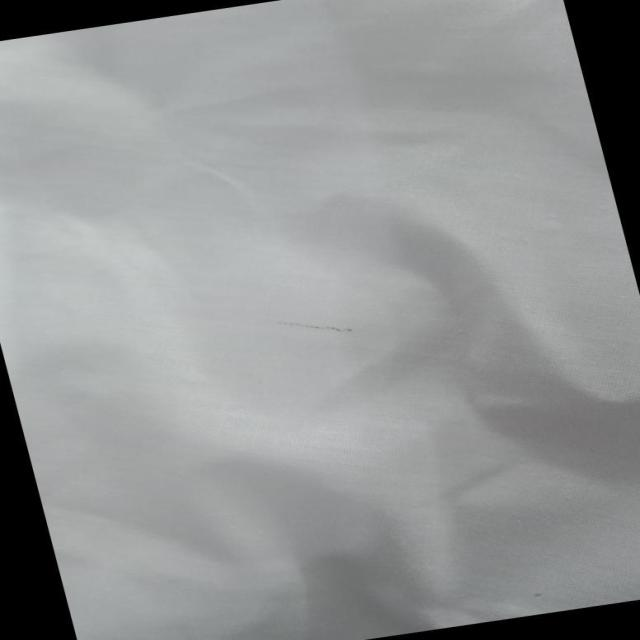contamination: (268, 306, 361, 348)
